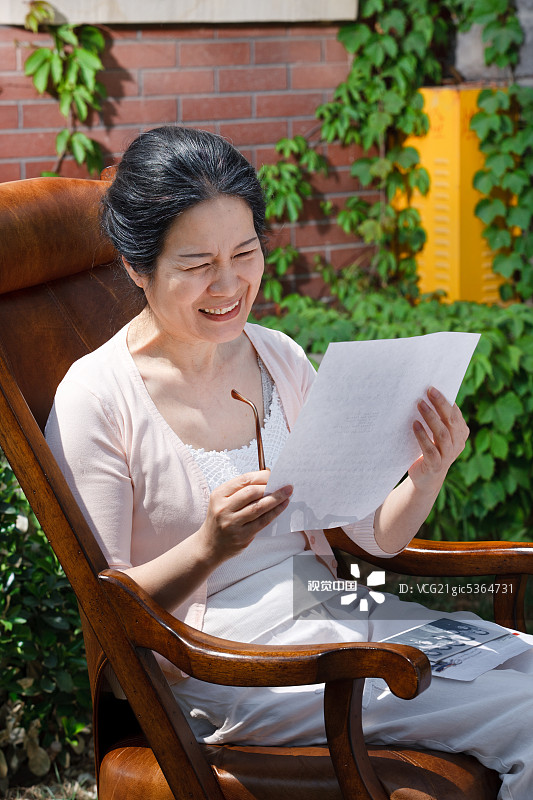no-phone: (397, 376, 479, 512), (193, 468, 308, 561)
